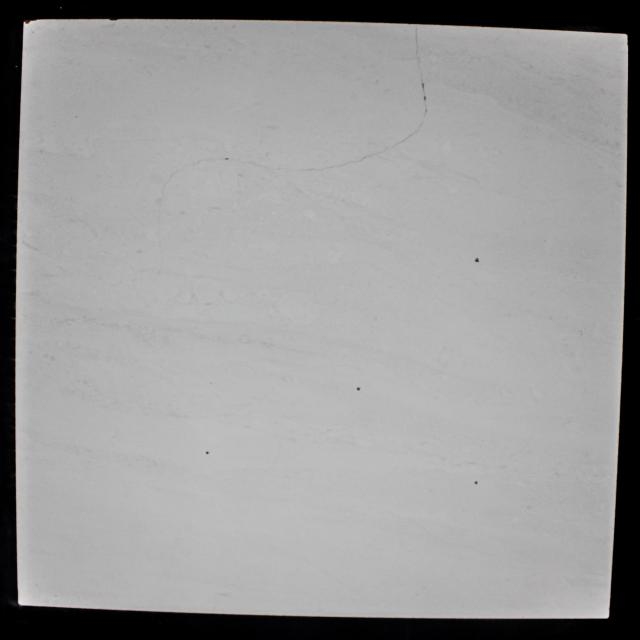edge-chipping: (23, 20, 37, 24)
hole: (474, 257, 480, 263), (205, 450, 210, 455), (356, 387, 361, 391), (474, 480, 478, 485), (225, 158, 229, 160)
line: (414, 26, 423, 83), (360, 147, 390, 161), (415, 101, 428, 133), (320, 160, 357, 171), (162, 168, 180, 188), (393, 133, 414, 147), (247, 160, 266, 168)
